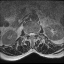CCS_normal: (31, 31, 33, 39)
LFS_normal: (35, 31, 37, 37)
LLS_normal: (33, 31, 35, 37)
RFS_normal: (27, 31, 29, 37)
RLS_normal: (29, 32, 31, 38)
